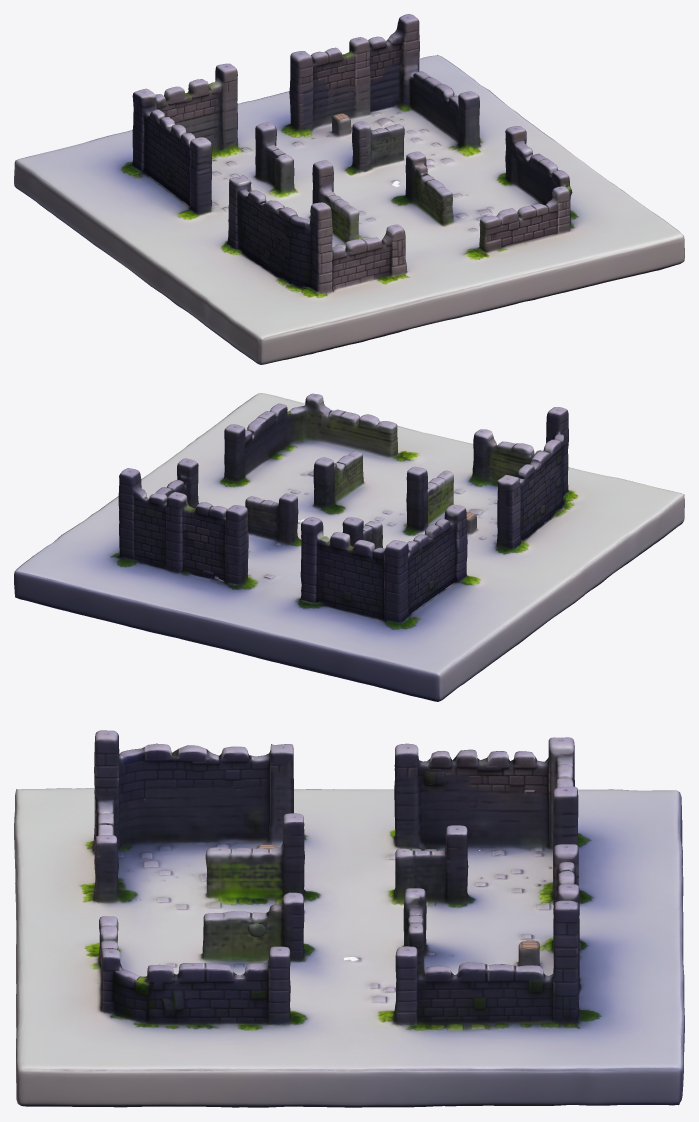
File: maze_walls.glb
The picture shows the model from 3 angles, top to bottom: view 1: azimuth 30°, elevation 25°; view 2: azimuth 150°, elevation 25°; view 3: azimuth 270°, elevation 25°; orthographic projection. The views are drawn at different scales.
Visible parts, largest first — view 1: tripo_node_fde99ed1; view 2: tripo_node_fde99ed1; view 3: tripo_node_fde99ed1.
Part boxes in pixels (x1,y1,x2,y2): tripo_node_fde99ed1: (14, 14, 684, 364); tripo_node_fde99ed1: (14, 393, 684, 701); tripo_node_fde99ed1: (14, 730, 684, 1107).
Bounding box in the file's own units: 97.8 × 25.25 × 98.02.
Materials: 1 (1 with a texture image).
